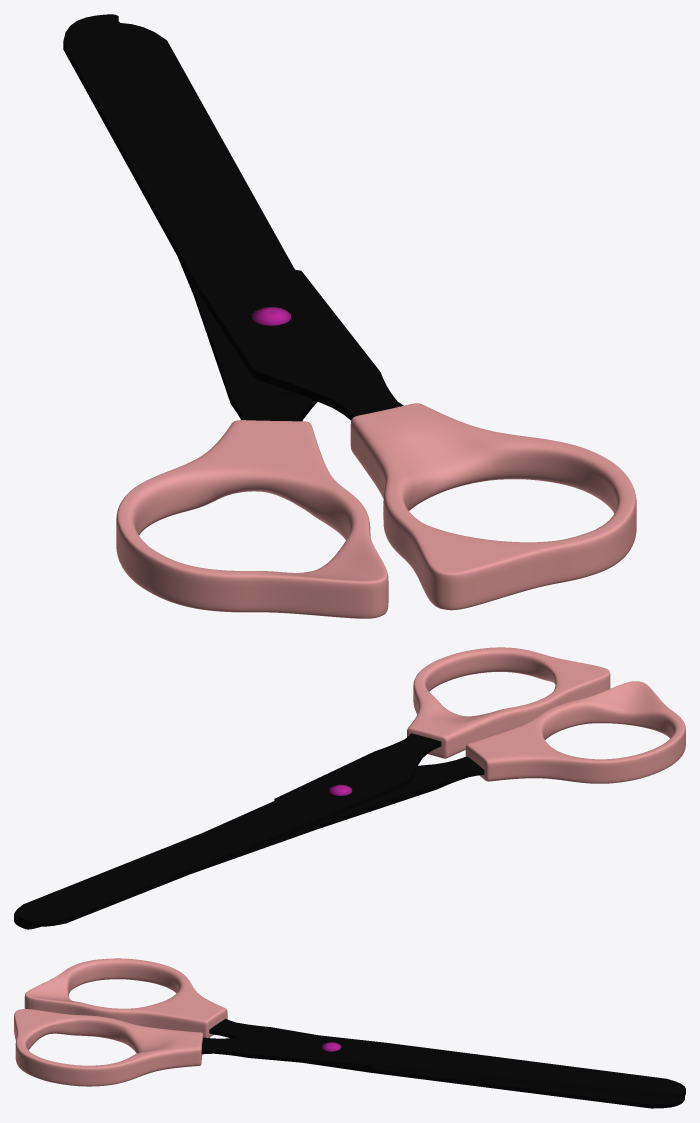
File: scissors.obj
The picture shows the model from 3 angles, top to bottom: view 1: azimuth 30°, elevation 25°; view 2: azimuth 150°, elevation 25°; view 3: azimuth 270°, elevation 25°; orthographic projection. The views are drawn at different scales.
Visible parts, largest first — view 1: Body, Steel_1, Steel_2; view 2: Body, Steel_1, Steel_2, Lama_2; view 3: Body, Steel_1, Steel_2, Lama_1.
Part boxes in pixels (x1,y1,x2,y2): Body: [116, 403, 636, 618]; Steel_1: [63, 14, 403, 420]; Steel_2: [121, 23, 317, 421]; Body: [407, 647, 685, 783]; Steel_1: [18, 733, 441, 926]; Steel_2: [14, 756, 484, 929]; Lama_2: [30, 823, 319, 929]; Body: [14, 958, 227, 1086]; Steel_1: [201, 1031, 685, 1099]; Steel_2: [209, 1019, 684, 1108]; Lama_1: [372, 1064, 679, 1099].
Bounding box in the file's own units: 2.68 × 0.1797 × 5.54.
